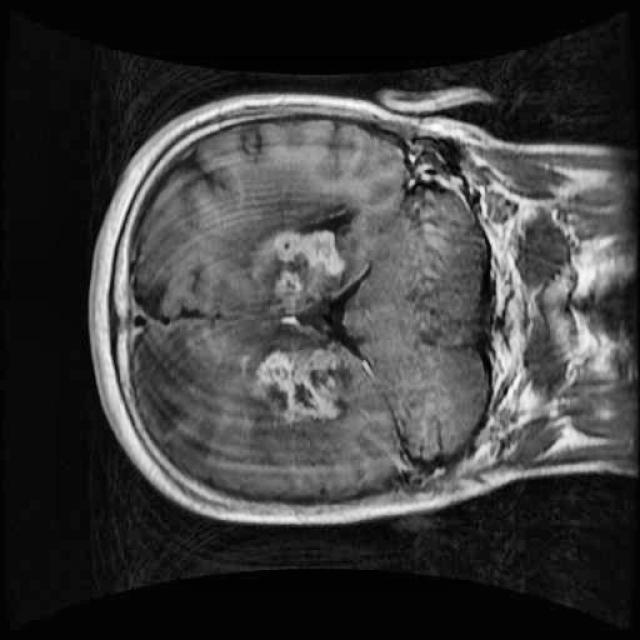Tumor: (234, 205, 374, 446)
